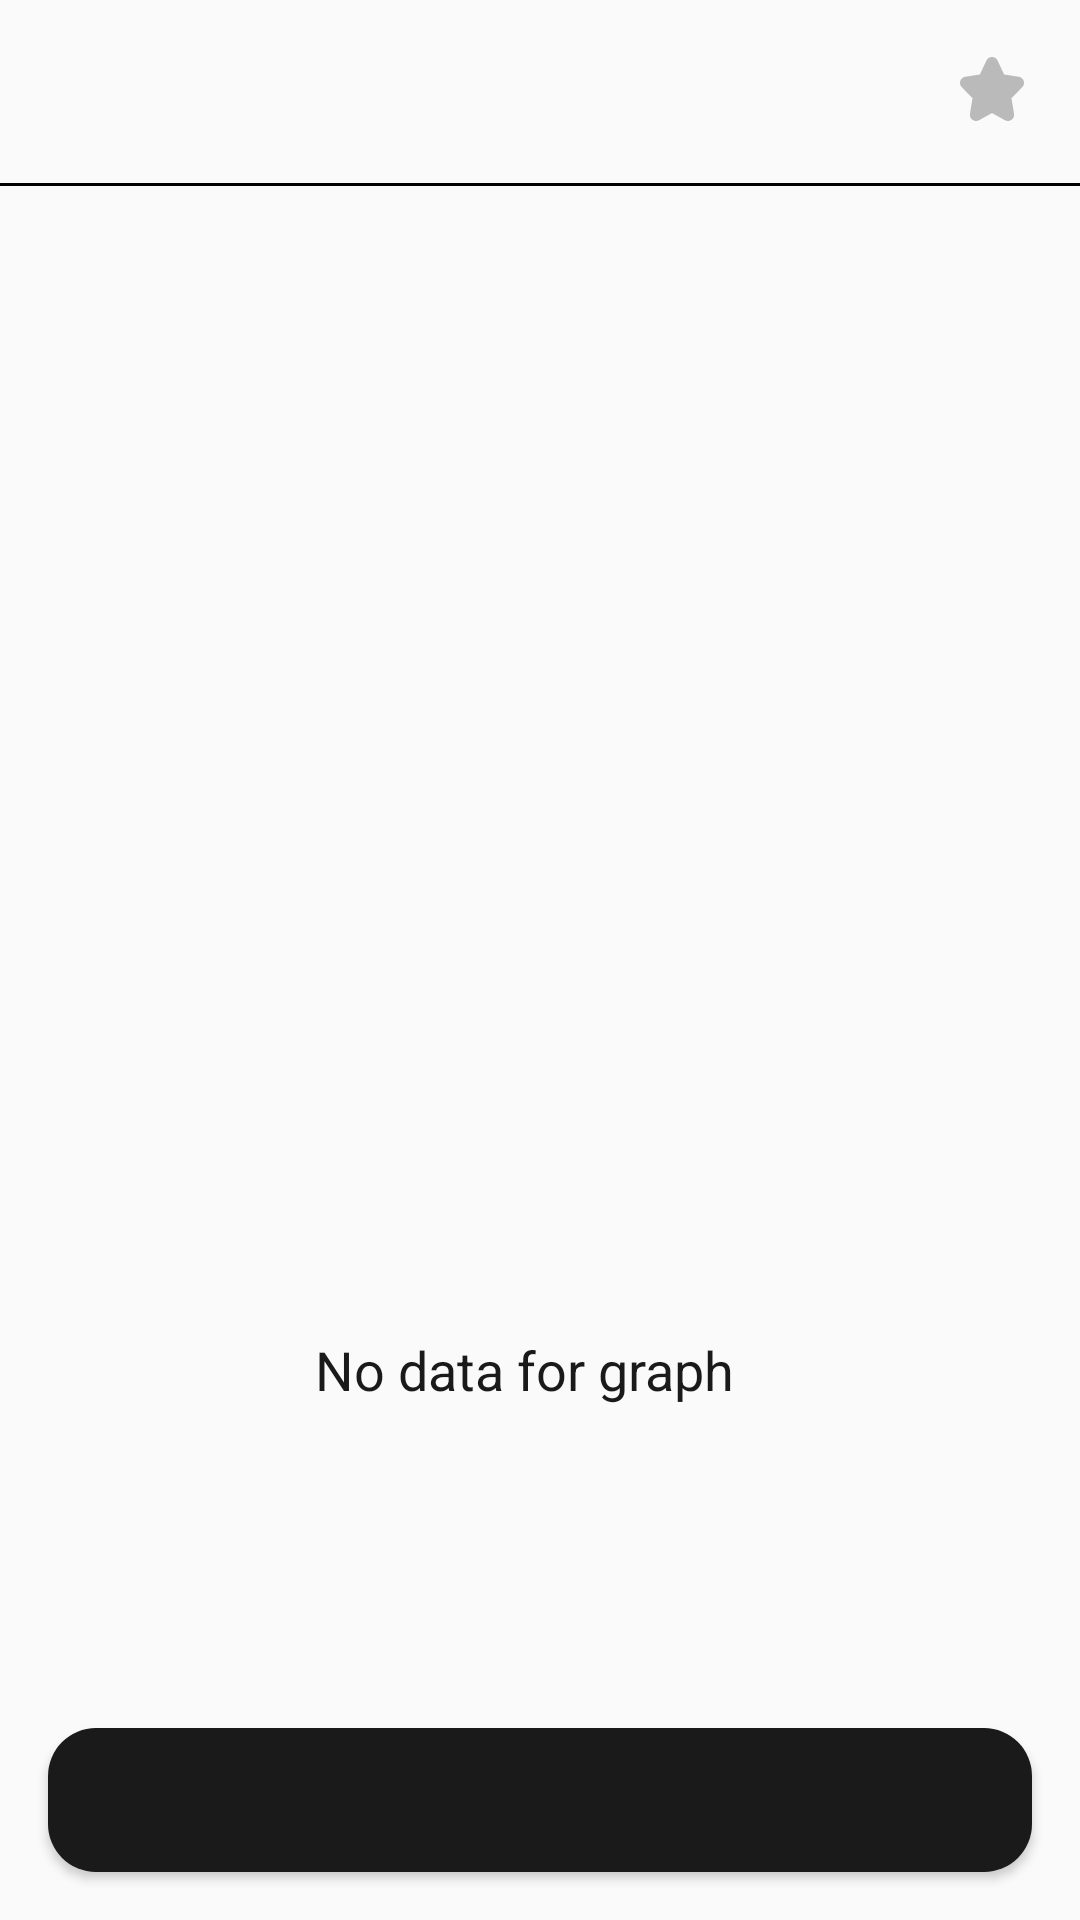

Point at icon controls on the screen. Image size 1080*1920, points as [x,y].
favorite: [992,89]
